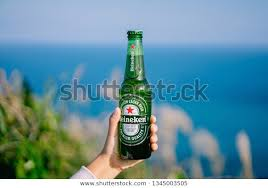beer: (118, 30, 151, 160)
